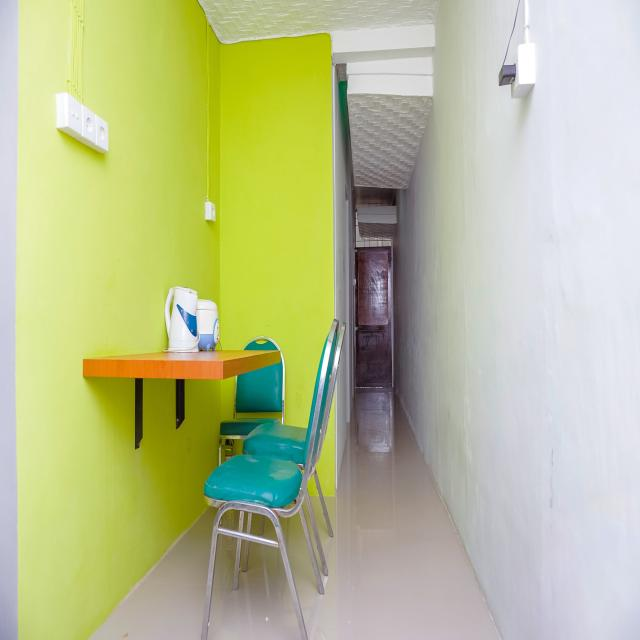Chair: (200, 314, 352, 640)
